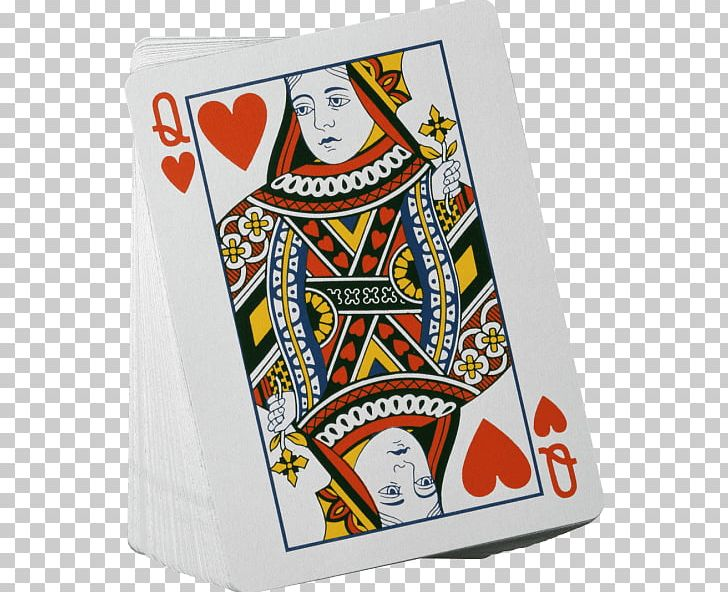queen of hearts: (125, 2, 605, 592)
